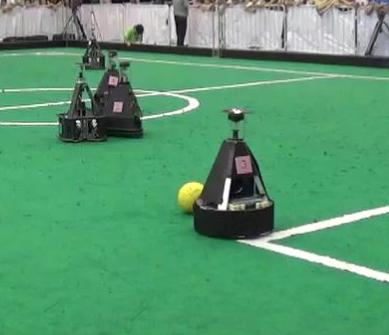robot: (192, 106, 278, 239), (92, 49, 146, 140), (55, 62, 111, 146)
